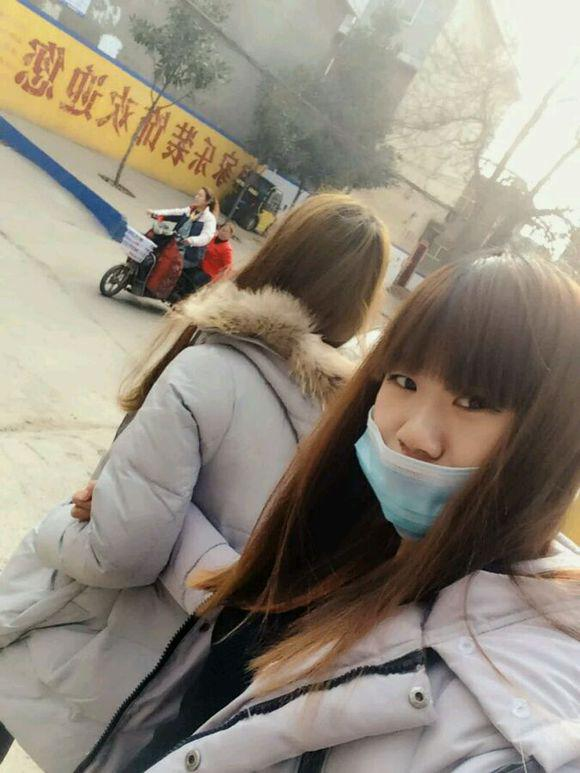NONE: (195, 191, 207, 208)
WRONG: (355, 347, 528, 520)
